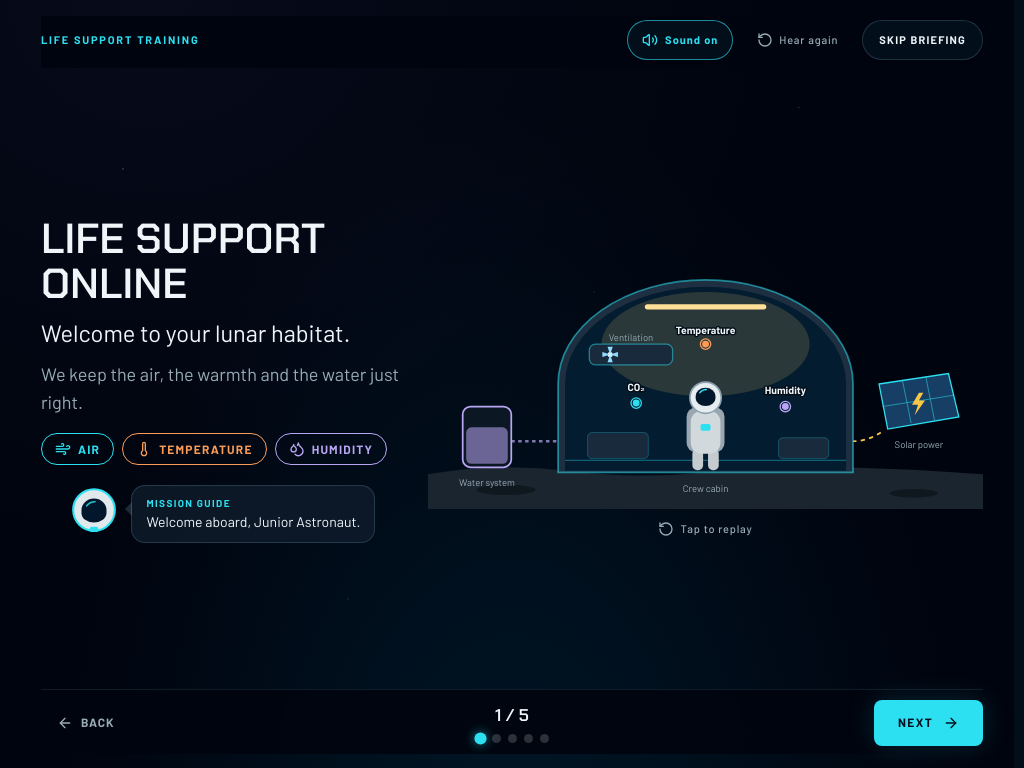
Test: Ages 7-9 get a calmer, simpler briefing › scene 2: only one concept moves at a time, and it follows the voice
Click the button "NEXT": (928,723) [874, 700, 983, 746]
Wait 100 ms
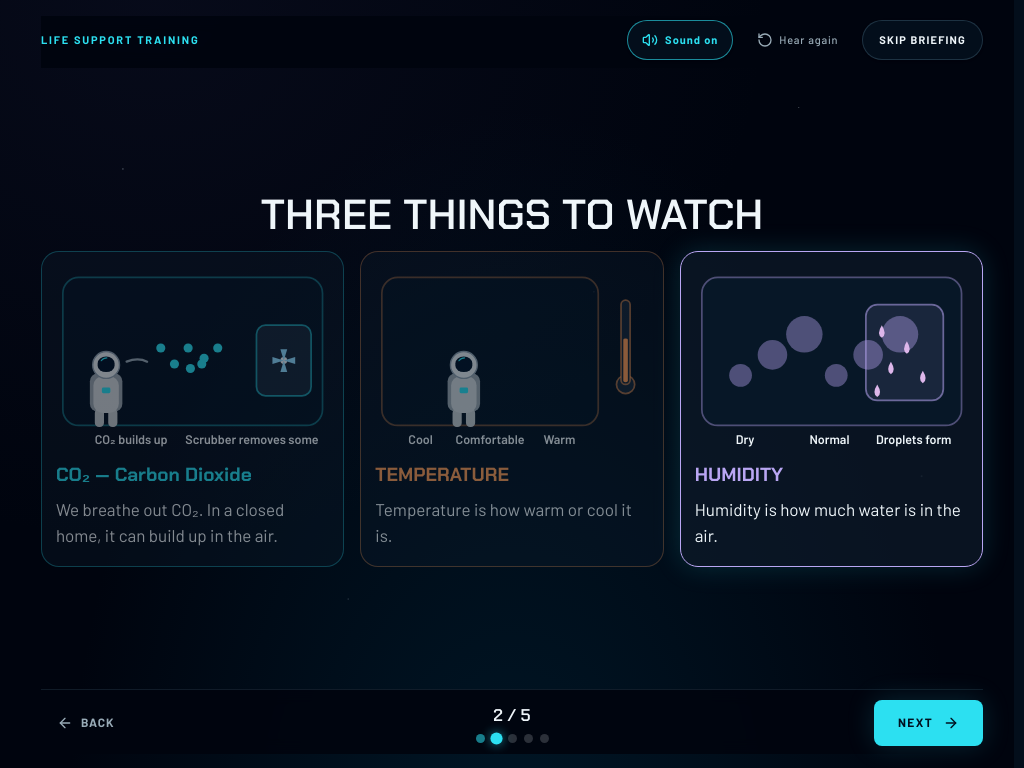
Expected: the number of buttons with class "concept-focus" is 1, [680, 251, 983, 567]
Expected: the number of buttons with class "concept-still" is 2, [41, 251, 344, 567]; [360, 251, 664, 567]
